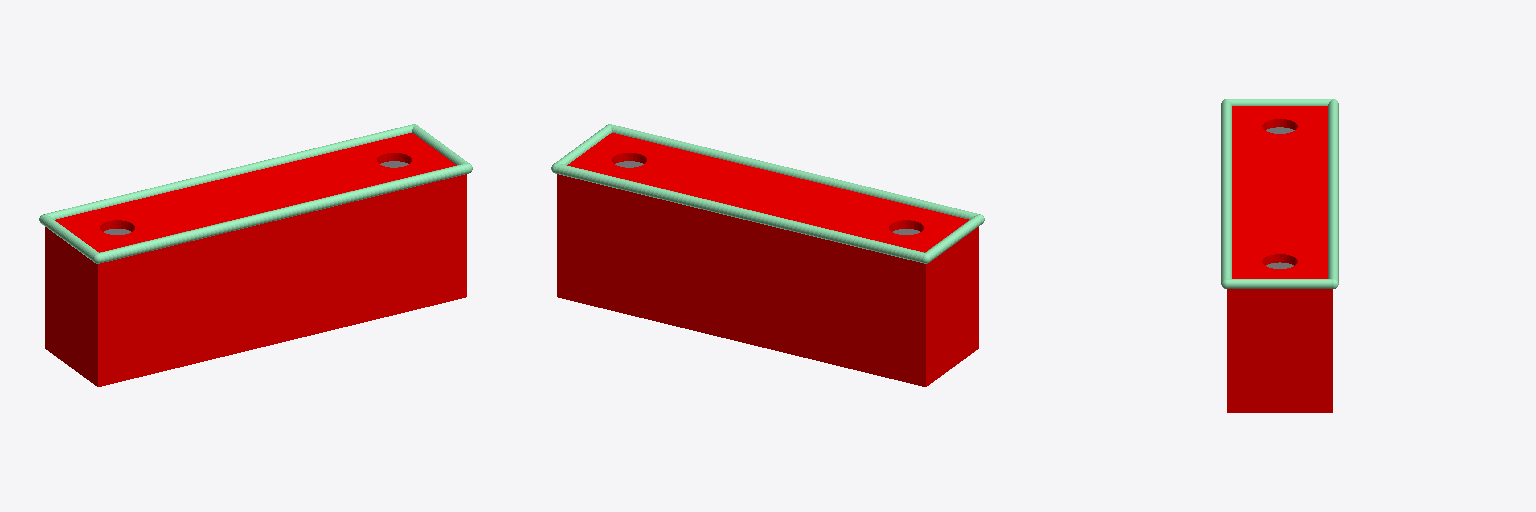
3 renders of one model, left to right at view 1: azimuth 30°, elevation 25°; view 2: azimuth 150°, elevation 25°; view 3: azimuth 270°, elevation 25°, orthographic.
Parts seen in each view (by area): view 1: Box002, Cylinder003, Cylinder004, Cylinder006, Cylinder005; view 2: Box002, Cylinder004, Cylinder003, Cylinder006, Cylinder005; view 3: Box002, Cylinder003, Cylinder004, Cylinder005, Cylinder006.
Part boxes in pixels (x1,y1,x2,y2): Box002: (45,133,466,386); Cylinder003: (98,164,469,262); Cylinder004: (44,124,413,219); Cylinder006: (40,215,98,261); Cylinder005: (412,125,469,164); Box002: (557,133,978,386); Cylinder004: (555,163,925,262); Cylinder003: (610,124,979,219); Cylinder006: (925,215,983,261); Cylinder005: (554,125,611,164); Box002: (1227,106,1332,412); Cylinder003: (1221,99,1231,282); Cylinder004: (1328,99,1338,282); Cylinder005: (1227,279,1331,288); Cylinder006: (1228,99,1331,105).
Bounding box in the file's own units: 6.15 × 2.08 × 1.65.
Materials: 3 (2 with a texture image).